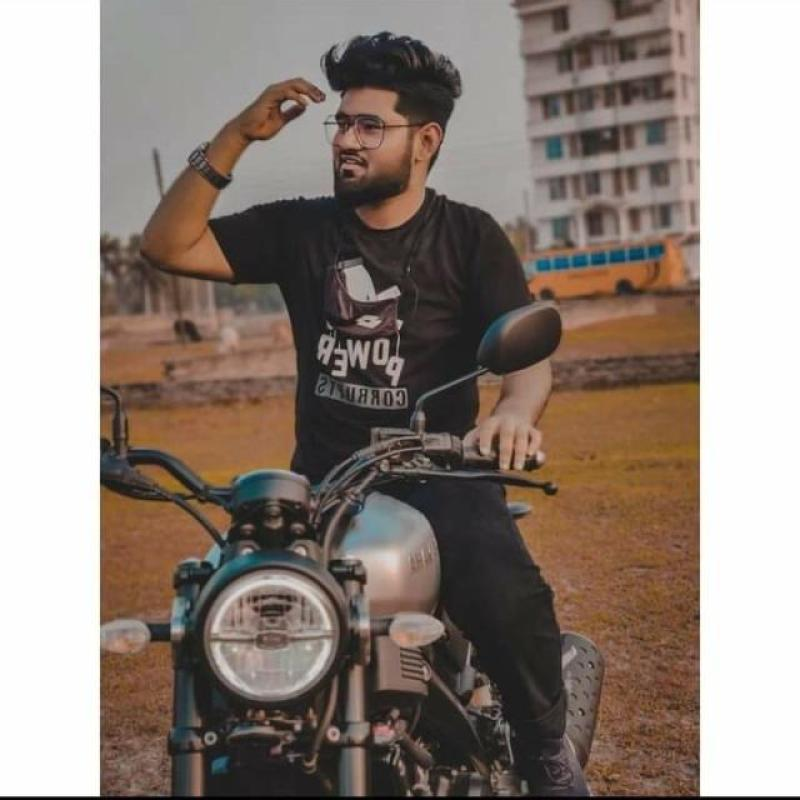nohelmet: (304, 40, 474, 210)
